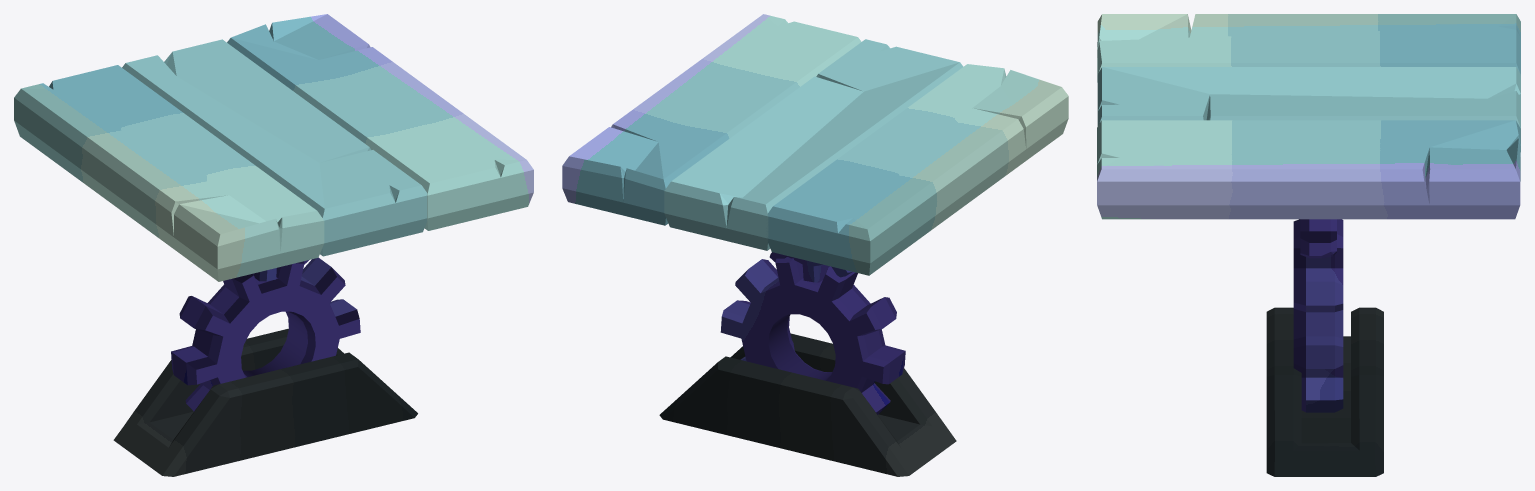
File: SM_HammerTable.fbx
3 renders of one model, left to right at view 1: azimuth 30°, elevation 25°; view 2: azimuth 150°, elevation 25°; view 3: azimuth 270°, elevation 25°, orthographic. The views are drawn at different scales.
Visible parts, largest first — view 1: pasted__pCylinder4; view 2: pasted__pCylinder4; view 3: pasted__pCylinder4.
Part boxes in pixels (bbox=[...]): pasted__pCylinder4: bbox=[14, 14, 533, 476]; pasted__pCylinder4: bbox=[562, 14, 1068, 476]; pasted__pCylinder4: bbox=[1097, 14, 1520, 476].
Size of the model in its own units: 33.36 by 31.7 by 37.26.
Materials: 1 (1 with a texture image).
